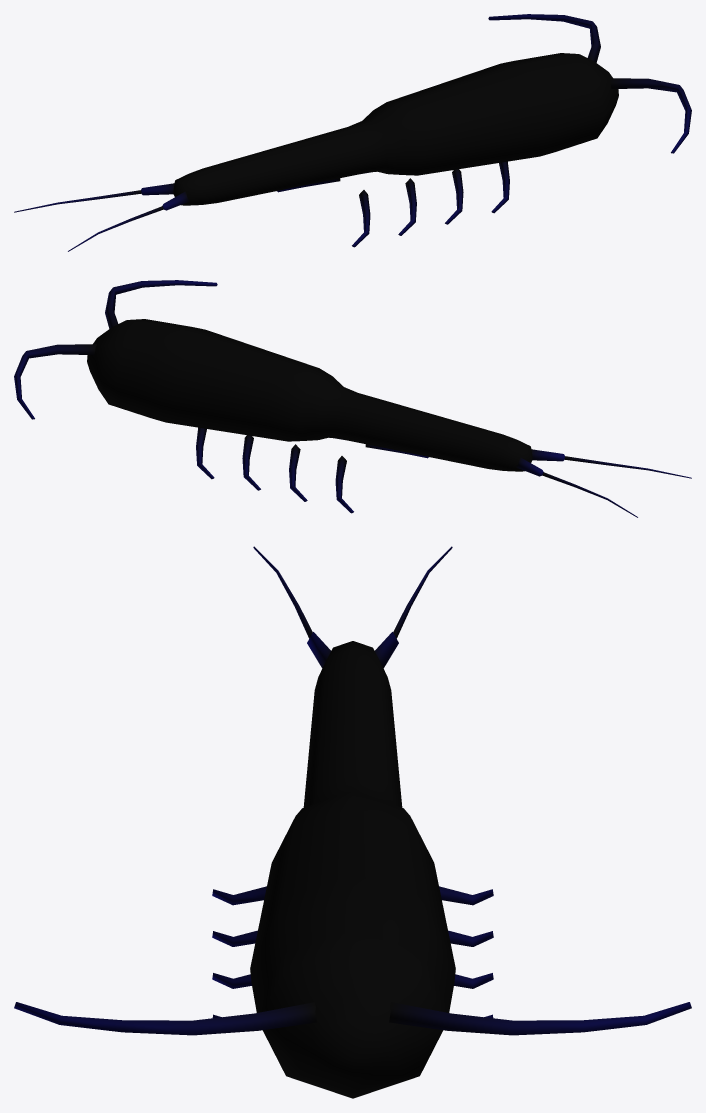
Rendered from micro_copepod.glb.
3 views of the same model, one above another, from view 1: azimuth 30°, elevation 25°; view 2: azimuth 150°, elevation 25°; view 3: azimuth 270°, elevation 25° (orthographic). The views are drawn at different scales.
Visible parts, largest first — view 1: Body, Legs, Antennae; view 2: Body, Legs, Antennae; view 3: Body, Antennae, Legs.
Boxes of the visible parts, x1,y1,x2,y2 form: Body: (173,53,618,205); Legs: (14,161,509,251); Antennae: (488,14,691,153); Body: (87,319,532,471); Legs: (196,427,691,517); Antennae: (14,280,217,419); Body: (250,641,455,1098); Antennae: (14,1002,691,1035); Legs: (212,546,493,1018).
Size of the model in its own units: 1.31 by 0.2202 by 0.6991.
1 material, 1 textured.
